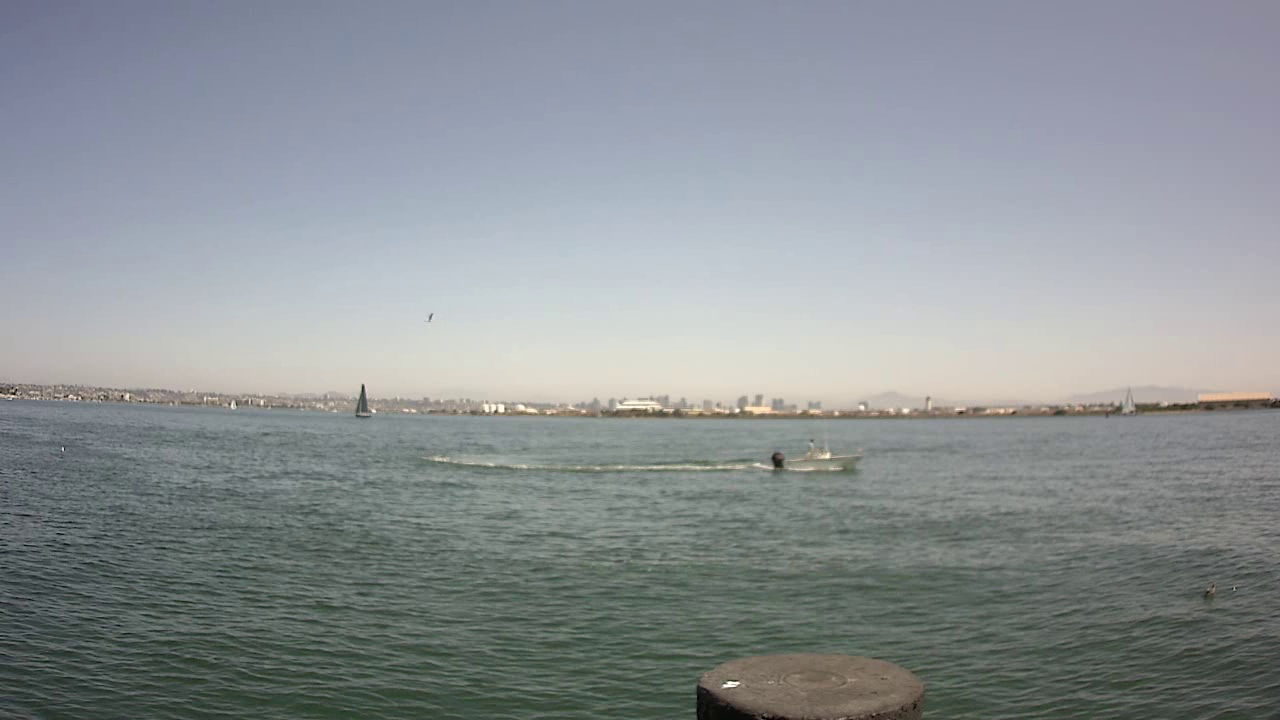target: (764, 424, 872, 482)
